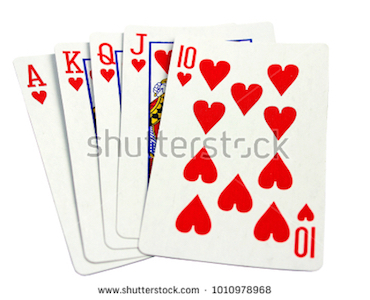10OfHearts: (157, 31, 331, 276)
AceOfHearts: (9, 51, 68, 274)
JackOfHearts: (116, 26, 175, 250)
KingOfHearts: (52, 36, 103, 268)
QueenOfHearts: (88, 27, 127, 244)
